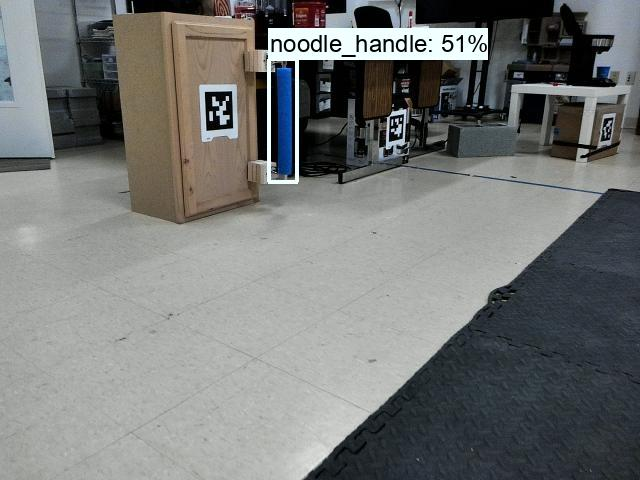noodle_handle: (269, 57, 300, 180)
